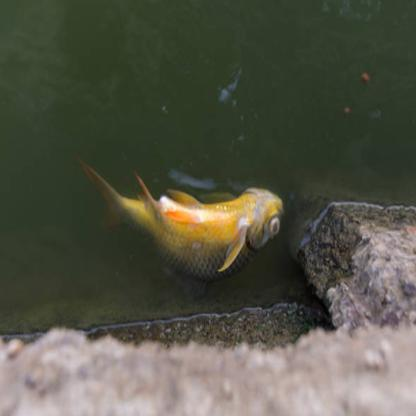deceased fish: (76, 153, 283, 278)
